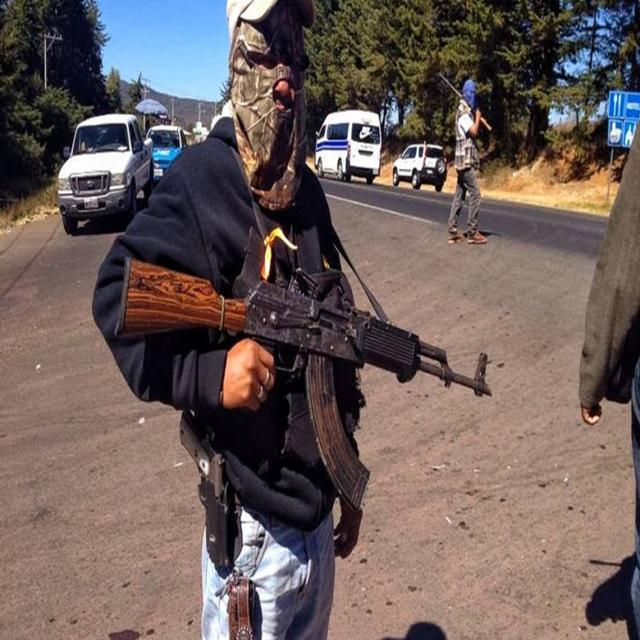weapon: (115, 255, 494, 515), (438, 70, 493, 132)
